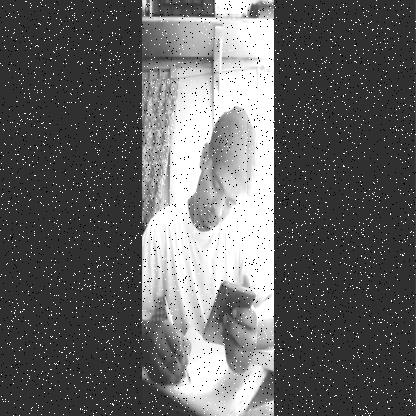Distracted: (194, 107, 247, 233)
